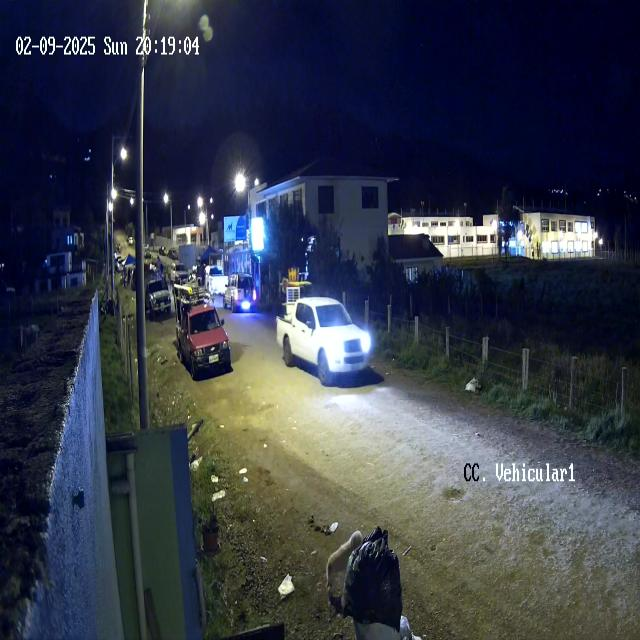CMT: (275, 296, 372, 387), (178, 302, 231, 379)
